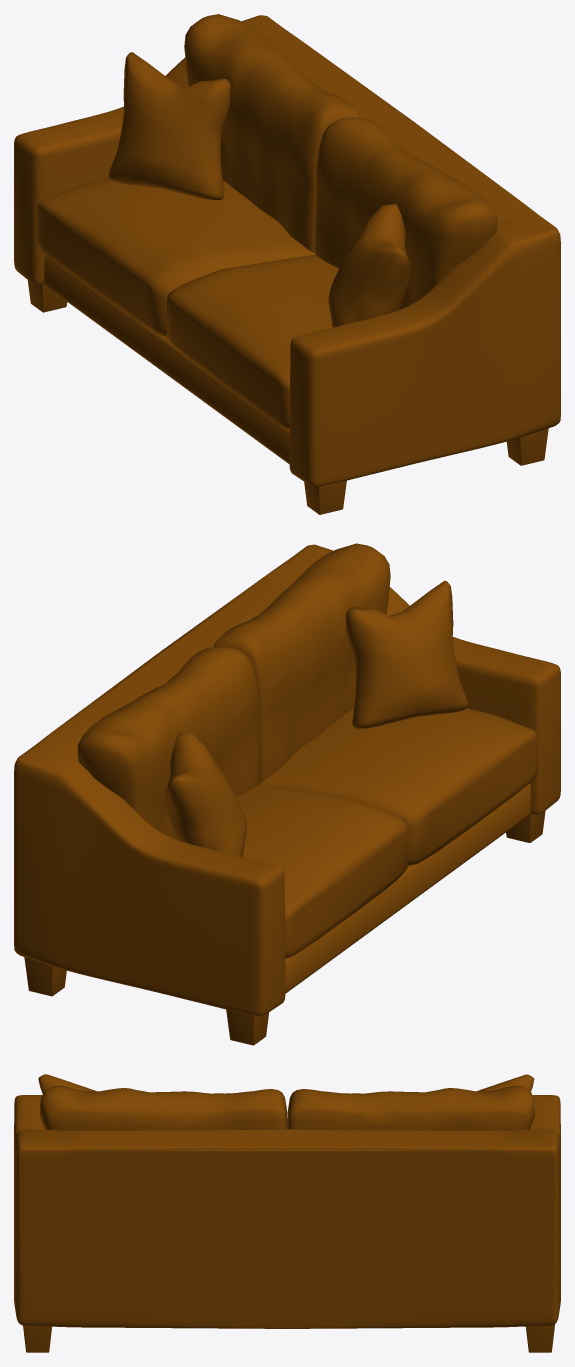
File: sofa-brown.glb
The picture shows the model from 3 angles, top to bottom: view 1: azimuth 30°, elevation 25°; view 2: azimuth 150°, elevation 25°; view 3: azimuth 270°, elevation 25°; orthographic projection. The views are drawn at different scales.
Visible parts, largest first — view 1: Object_2, Object_2.001, Object_2.002, Object_2.003; view 2: Object_2, Object_2.002, Object_2.001, Object_2.004; view 3: Object_2.
Part boxes in pixels (left/top/right/bottom): Object_2: left=14, top=14, right=560, bottom=514; Object_2.001: left=108, top=52, right=230, bottom=199; Object_2.002: left=328, top=204, right=400, bottom=327; Object_2.003: left=376, top=205, right=409, bottom=316; Object_2: left=14, top=543, right=560, bottom=1045; Object_2.002: left=346, top=580, right=468, bottom=728; Object_2.001: left=174, top=732, right=247, bottom=856; Object_2.004: left=165, top=733, right=199, bottom=846; Object_2: left=14, top=1085, right=560, bottom=1352.
Bounding box in the file's own units: 39 × 38 × 80.
